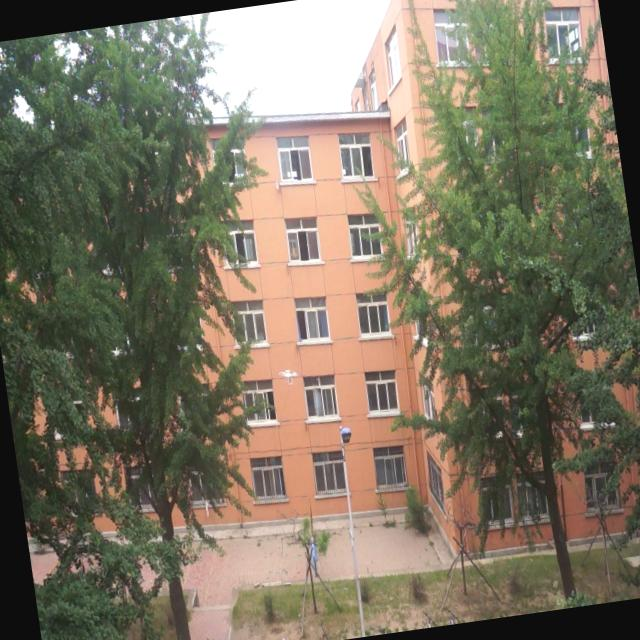drone: (276, 361, 300, 391)
